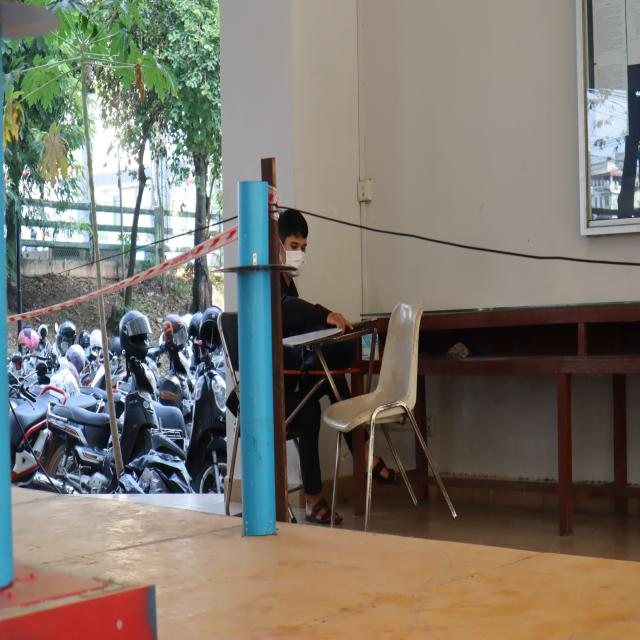pole: (214, 167, 302, 318)
